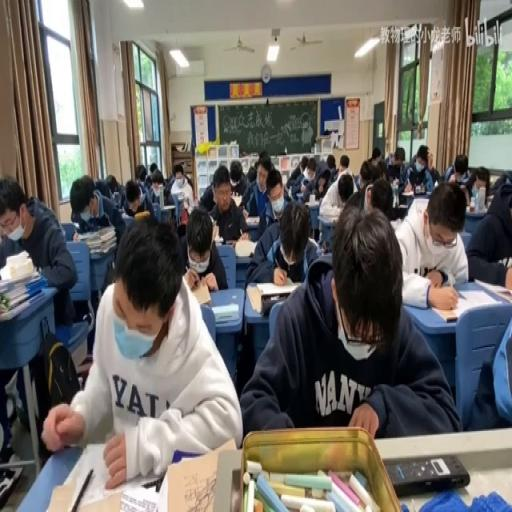calculator: (44, 440, 166, 509), (164, 440, 238, 510), (430, 286, 504, 323), (0, 289, 44, 320), (0, 266, 38, 292), (254, 279, 300, 296), (186, 278, 212, 304), (244, 284, 262, 314), (212, 302, 238, 322), (408, 196, 430, 218), (234, 238, 256, 256), (318, 212, 341, 225), (306, 236, 318, 253), (230, 194, 242, 208), (245, 214, 260, 224), (173, 189, 185, 201), (223, 238, 237, 248), (401, 186, 413, 196), (120, 212, 134, 220), (162, 202, 176, 210), (307, 198, 319, 206), (186, 201, 198, 209), (213, 235, 223, 243), (486, 195, 492, 206)
paper: (236, 203, 454, 441), (0, 176, 78, 460), (465, 173, 512, 284), (70, 173, 123, 266), (200, 165, 249, 245), (242, 158, 278, 230), (342, 165, 381, 212), (402, 142, 436, 195), (442, 152, 474, 198), (376, 180, 406, 222), (122, 176, 151, 219), (308, 158, 335, 199), (154, 164, 178, 204), (284, 155, 306, 193), (385, 144, 406, 182), (333, 153, 353, 185), (491, 171, 512, 195), (104, 173, 120, 195), (230, 160, 242, 184), (427, 163, 440, 185), (374, 159, 388, 179), (476, 172, 489, 192), (136, 163, 146, 185), (245, 166, 256, 185), (173, 170, 183, 188), (371, 145, 382, 161), (148, 161, 158, 176), (426, 151, 432, 168), (144, 175, 151, 189), (150, 176, 158, 186), (301, 164, 306, 174)
person: (386, 452, 470, 496), (261, 292, 290, 314), (320, 239, 326, 253)
